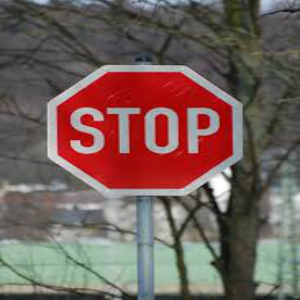STOP_SIGN: (46, 62, 245, 197)
